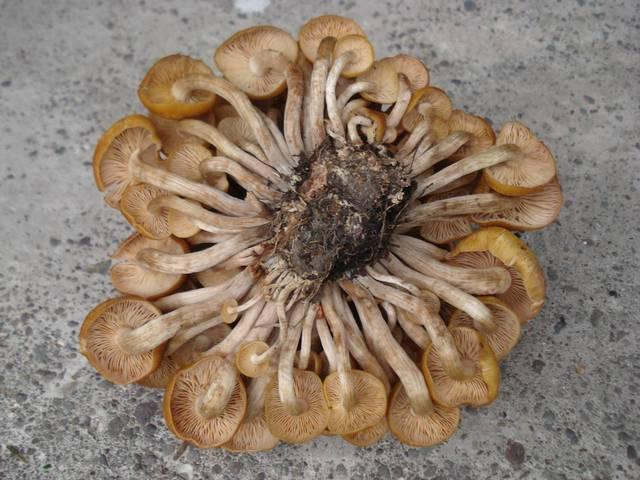Edible Mushroom: (78, 13, 563, 452)
